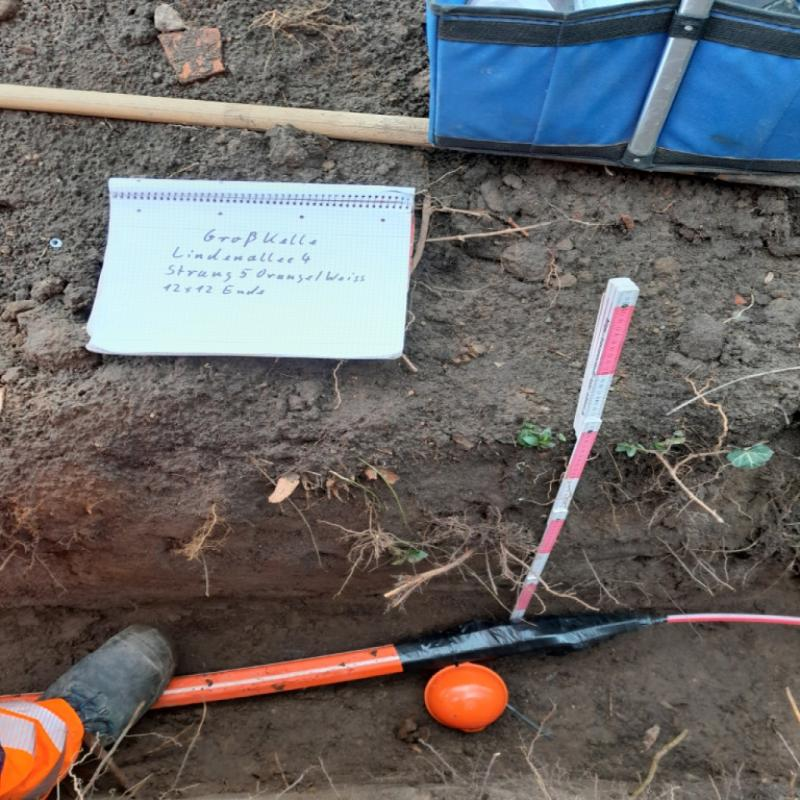Kugelmarker: (425, 663, 508, 732)
Orang-Speednetrohrchen: (157, 619, 582, 707)
